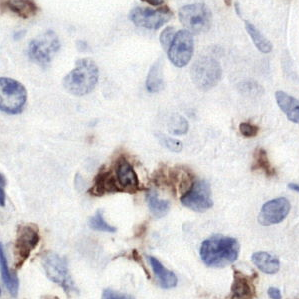Lymphocyte: (95, 157, 145, 194)
